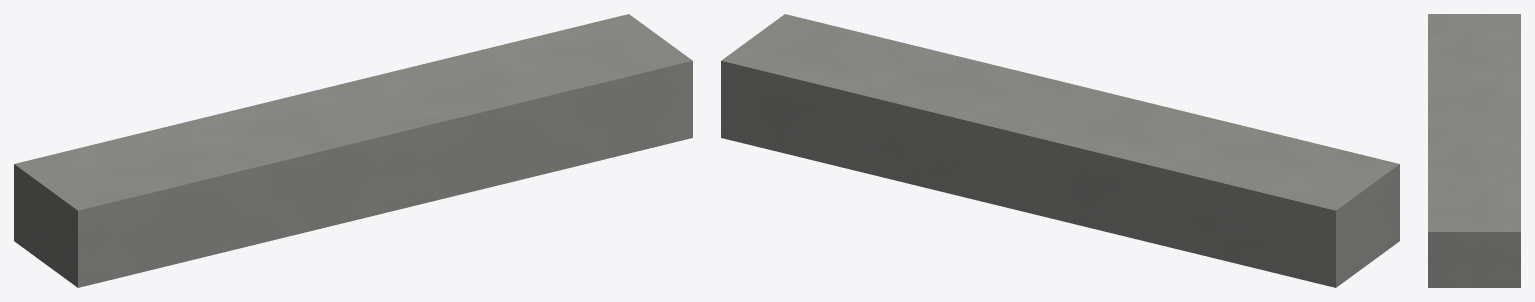
The model's file is Curb_Straight.fbx.
The picture shows the model from 3 angles, left to right: view 1: azimuth 30°, elevation 25°; view 2: azimuth 150°, elevation 25°; view 3: azimuth 270°, elevation 25°; orthographic projection. The views are drawn at different scales.
Parts seen in each view (by area): view 1: Curb_Straight; view 2: Curb_Straight; view 3: Curb_Straight.
Part boxes in pixels (x1,y1,x2,y2): Curb_Straight: [14, 14, 692, 287]; Curb_Straight: [721, 14, 1399, 287]; Curb_Straight: [1428, 14, 1520, 287].
Bounding box in the file's own units: 1 × 0.12 × 0.18.
1 material, 1 textured.
